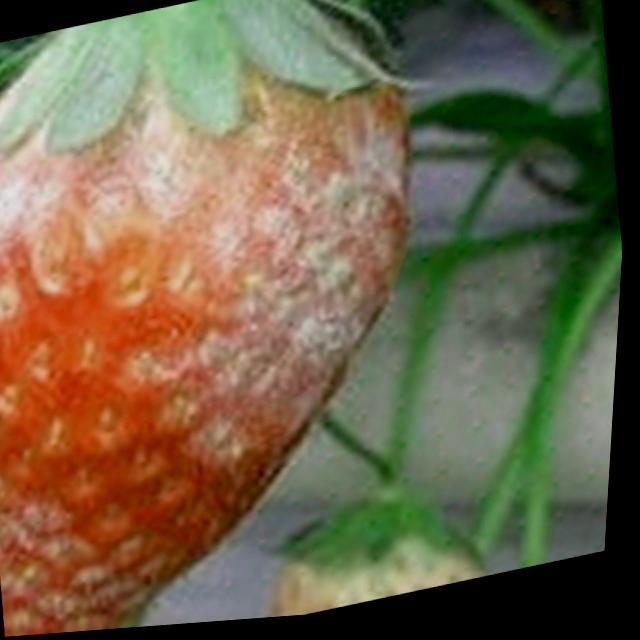Powdery Mildew Fruit: (0, 0, 429, 638)
